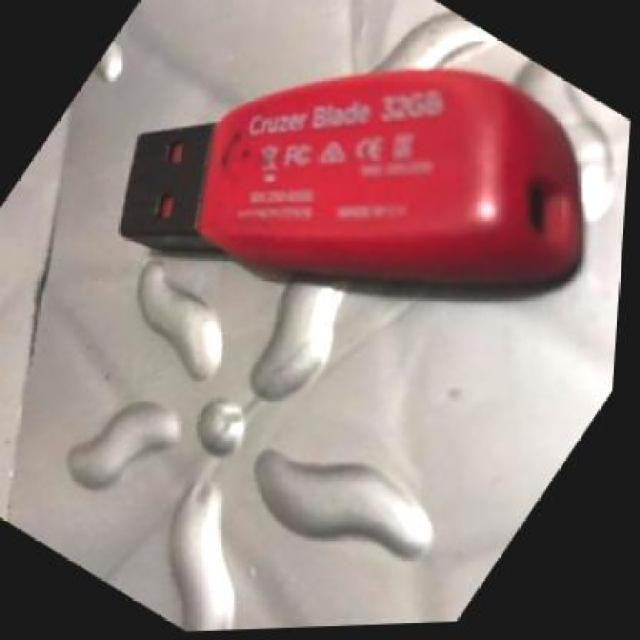Flashdisk: (43, 0, 640, 495)
